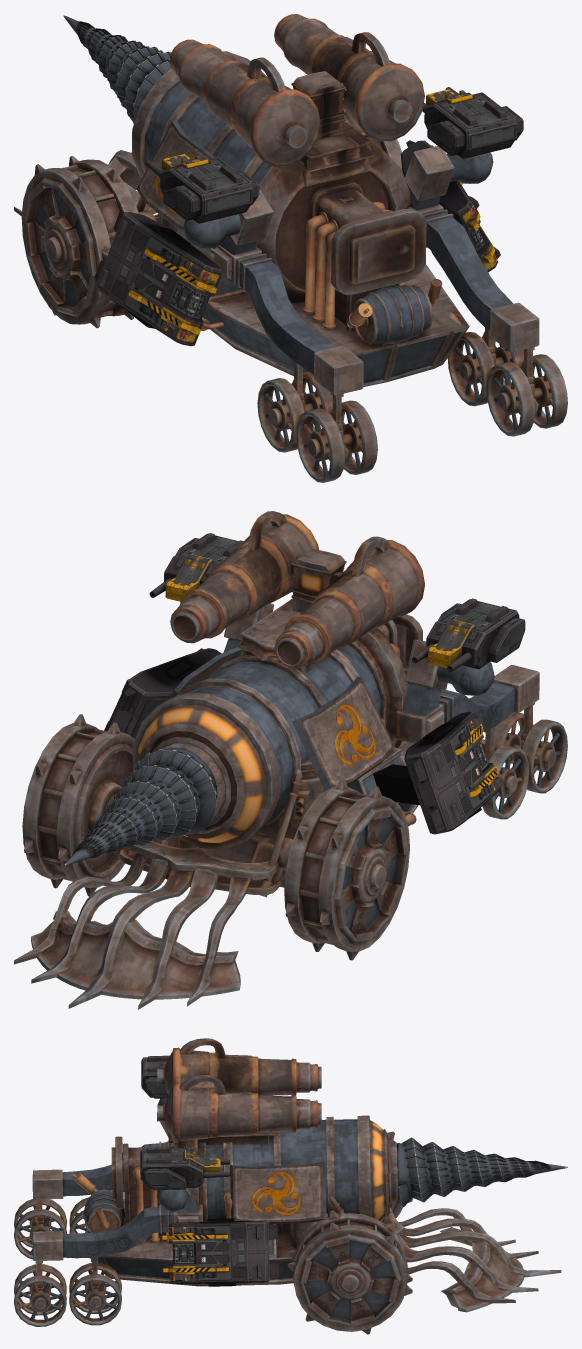
File: captain_cobold.glb
3 renders of one model, top to bottom at view 1: azimuth 30°, elevation 25°; view 2: azimuth 150°, elevation 25°; view 3: azimuth 270°, elevation 25°, orthographic. The views are drawn at different scales.
Visible parts, largest first — view 1: body, turret02-arms, frame, L_bigwheel01, powerbox, turret05, turret03-arms, turret04-arms, L_wheel02, R_wheel02, drill, L_wheel01 (+8 smaller); view 2: body, shovel, turret02-arms, L_bigwheel01, R_bigwheel01, drill, turret05, frame, armor01, turret03-arms, turret06, L_wheel02 (+7 smaller); view 3: body, turret02-arms, R_bigwheel01, shovel, frame, turret06, drill, armor02, turret04-arms, R_wheel02, R_wheel01, powerbox (+5 smaller).
Boxes of the visible parts, bbox=[...] form: body: bbox=[131, 51, 469, 386]; turret02-arms: bbox=[169, 14, 424, 166]; frame: bbox=[213, 146, 539, 440]; L_bigwheel01: bbox=[21, 156, 156, 328]; powerbox: bbox=[331, 208, 442, 345]; turret05: bbox=[94, 211, 222, 346]; turret03-arms: bbox=[145, 151, 259, 223]; turret04-arms: bbox=[422, 87, 523, 158]; L_wheel02: bbox=[296, 400, 377, 482]; R_wheel02: bbox=[486, 354, 567, 436]; drill: bbox=[63, 15, 171, 123]; L_wheel01: bbox=[257, 371, 332, 452]; body: bbox=[119, 598, 418, 897]; shovel: bbox=[14, 852, 252, 1009]; turret02-arms: bbox=[170, 511, 424, 668]; L_bigwheel01: bbox=[277, 778, 409, 960]; R_bigwheel01: bbox=[22, 714, 134, 896]; drill: bbox=[64, 747, 217, 866]; turret05: bbox=[373, 711, 503, 834]; frame: bbox=[223, 603, 539, 762]; armor01: bbox=[291, 676, 394, 790]; turret03-arms: bbox=[412, 598, 525, 671]; turret06: bbox=[104, 648, 221, 738]; L_wheel02: bbox=[494, 712, 567, 793]; body: bbox=[97, 1115, 404, 1286]; turret02-arms: bbox=[157, 1038, 321, 1142]; R_bigwheel01: bbox=[287, 1210, 412, 1334]; shovel: bbox=[397, 1208, 561, 1312]; frame: bbox=[32, 1104, 202, 1290]; turret06: bbox=[162, 1218, 278, 1286]; drill: bbox=[397, 1137, 567, 1207]; armor02: bbox=[230, 1162, 326, 1224]; turret04-arms: bbox=[140, 1147, 229, 1190]; R_wheel02: bbox=[14, 1264, 66, 1326]; R_wheel01: bbox=[69, 1262, 121, 1325]; powerbox: bbox=[71, 1136, 124, 1232].
Size of the model in its own units: 29.68 by 25.37 by 55.81.
3 materials, 3 textured.
